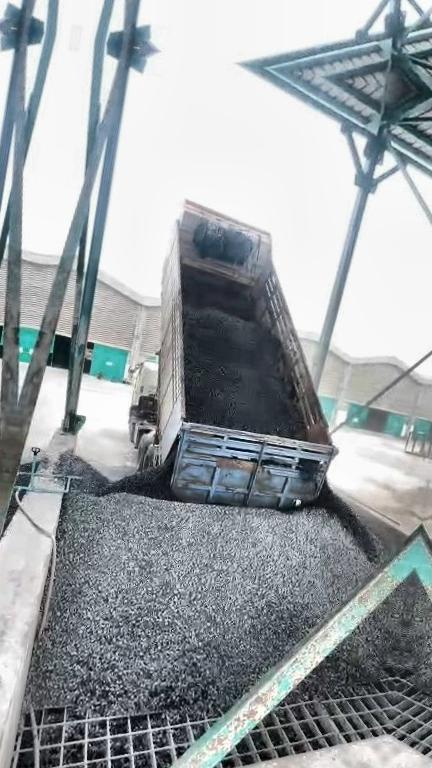gravel: (26, 446, 391, 717), (182, 298, 296, 438), (299, 574, 413, 694)
sand: (352, 481, 427, 534)
